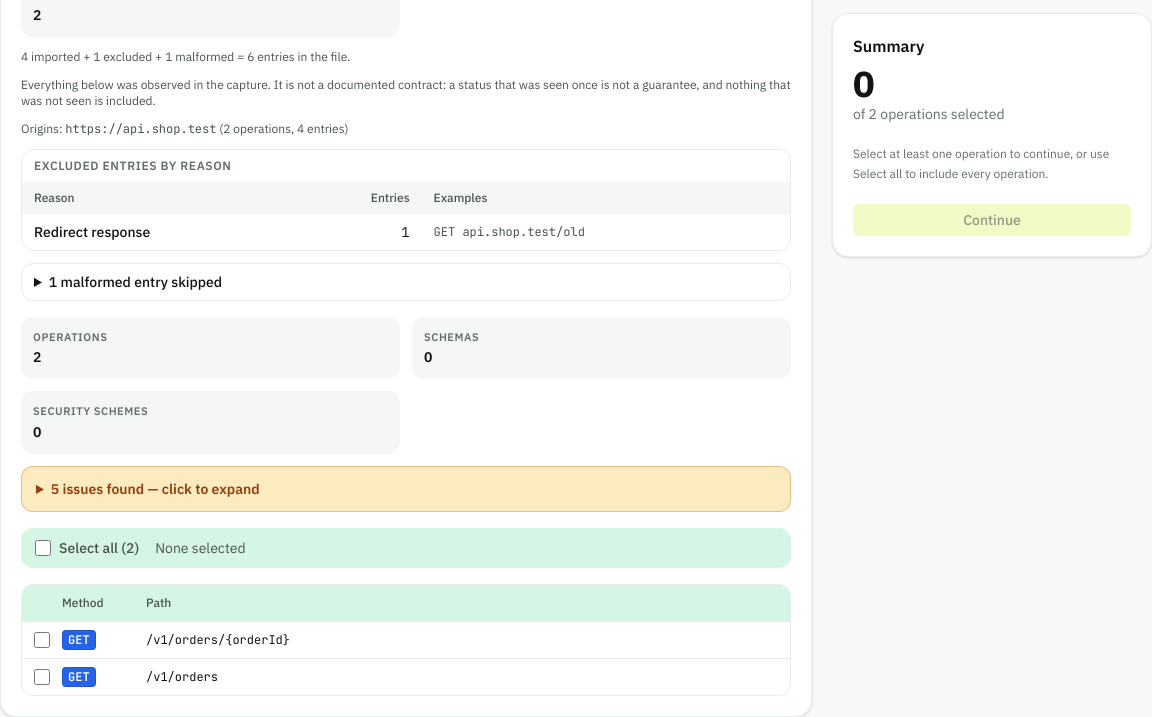
Test: ApiReviewStage for a HAR-derived model (specs/056 US3) › still lets the user select operations and continue, as for any input
(page scrolled)
Expected: the button "Continue" is disabled, 853,204 -> 1131,236
What coordinates should you click on to do the following:
click the checkbox labelled "Select all (2)"
I would click on:
 (43, 548)
Its box is 35,540 -> 51,556.
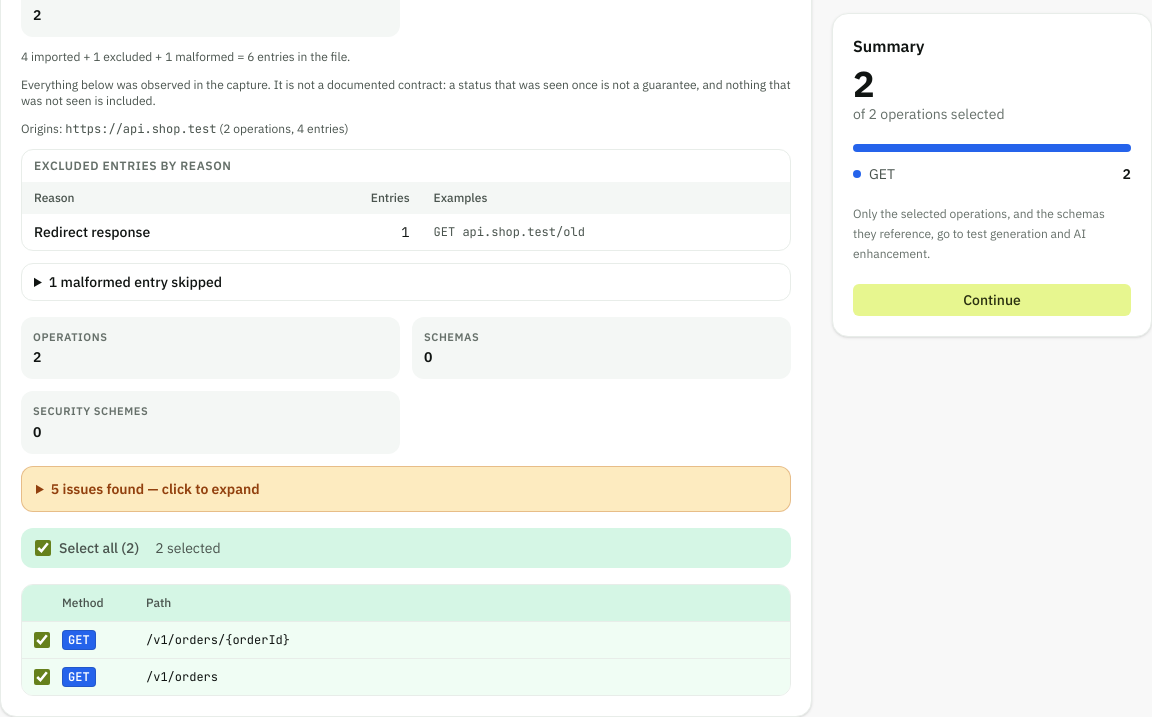
Expected: the button "Continue" is enabled, 853,284 -> 1131,316
